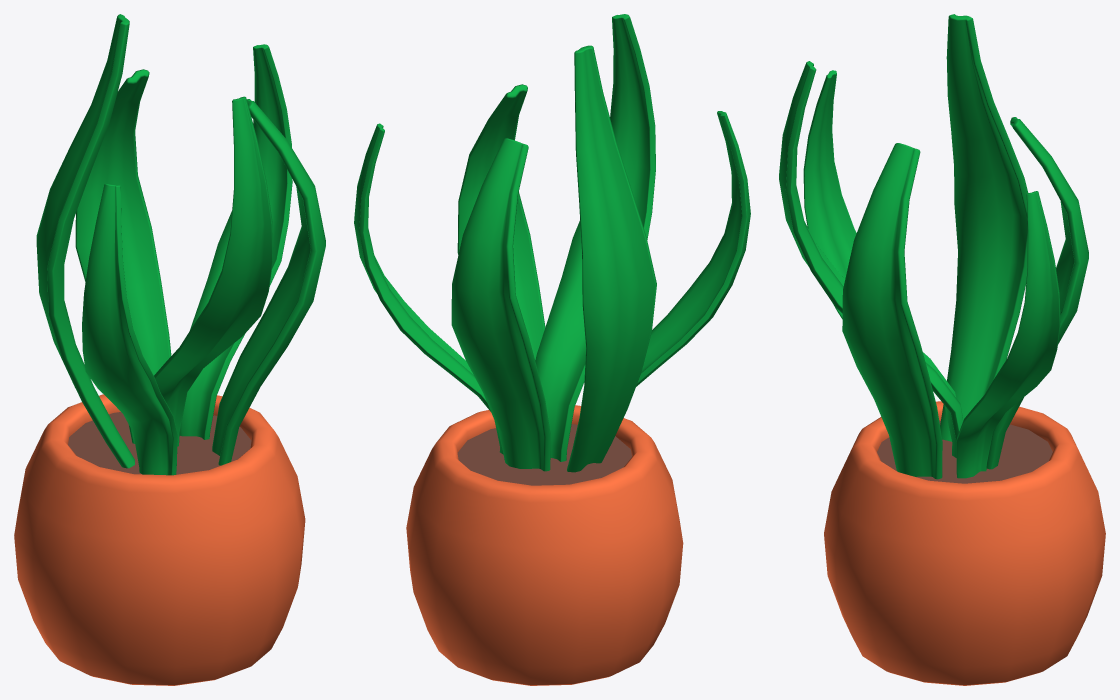
File: City_2_Plant_2.glb
3 views of the same model, side by side, from view 1: azimuth 30°, elevation 25°; view 2: azimuth 150°, elevation 25°; view 3: azimuth 270°, elevation 25° (orthographic). The views are drawn at different scales.
Visible parts, largest first — view 1: City_2_Plant_2; view 2: City_2_Plant_2; view 3: City_2_Plant_2.
Part boxes in pixels (left/top/right/bottom): City_2_Plant_2: left=14, top=14, right=325, bottom=685; City_2_Plant_2: left=354, top=14, right=750, bottom=685; City_2_Plant_2: left=779, top=14, right=1105, bottom=685.
Size of the model in its own units: 0.6316 by 1.24 by 0.6031.
Materials: 1 (1 with a texture image).
